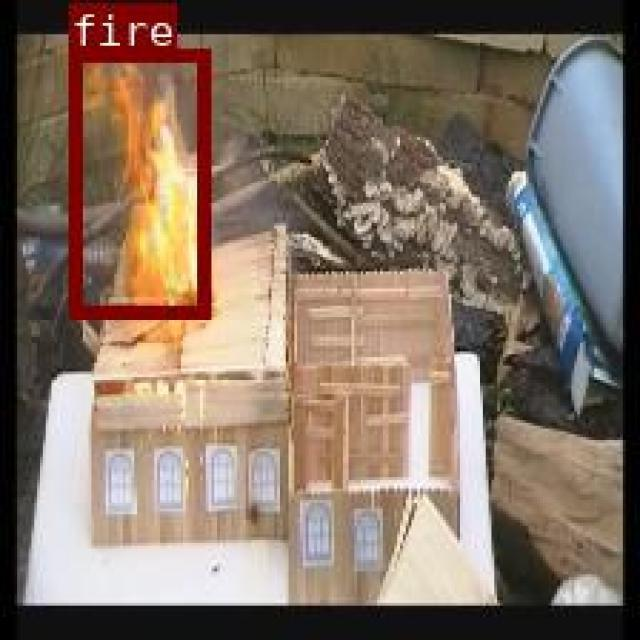fire: (68, 48, 208, 316)
